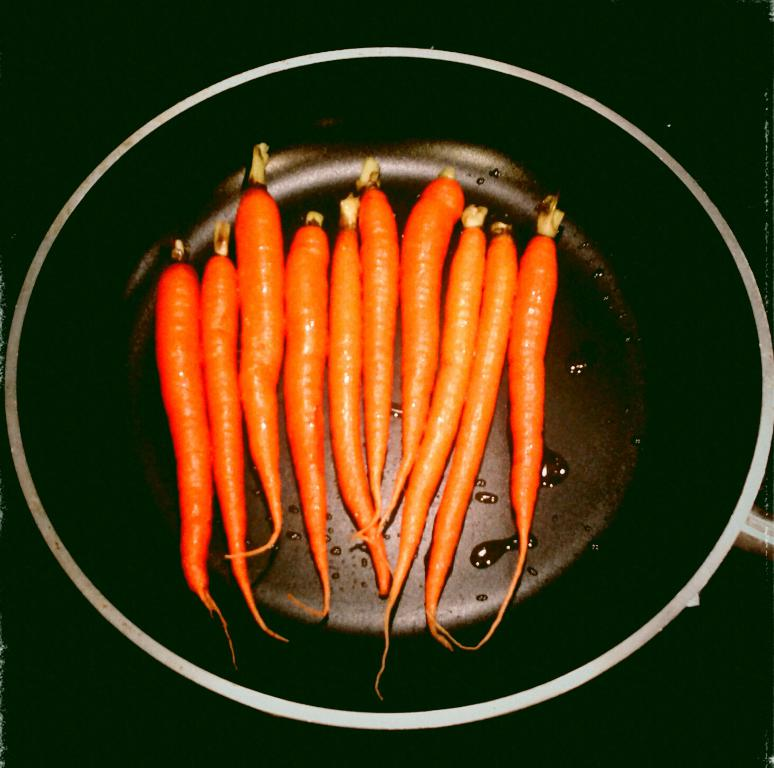Carrot: (154, 142, 564, 700)
